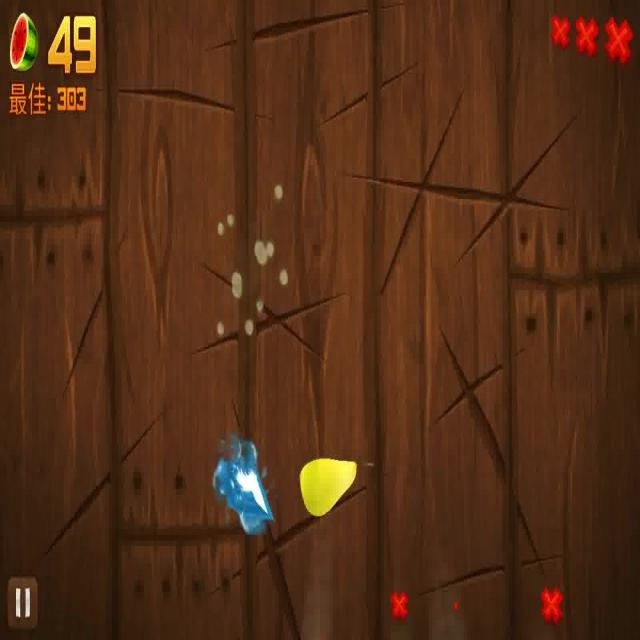fruit: (296, 444, 364, 522)
